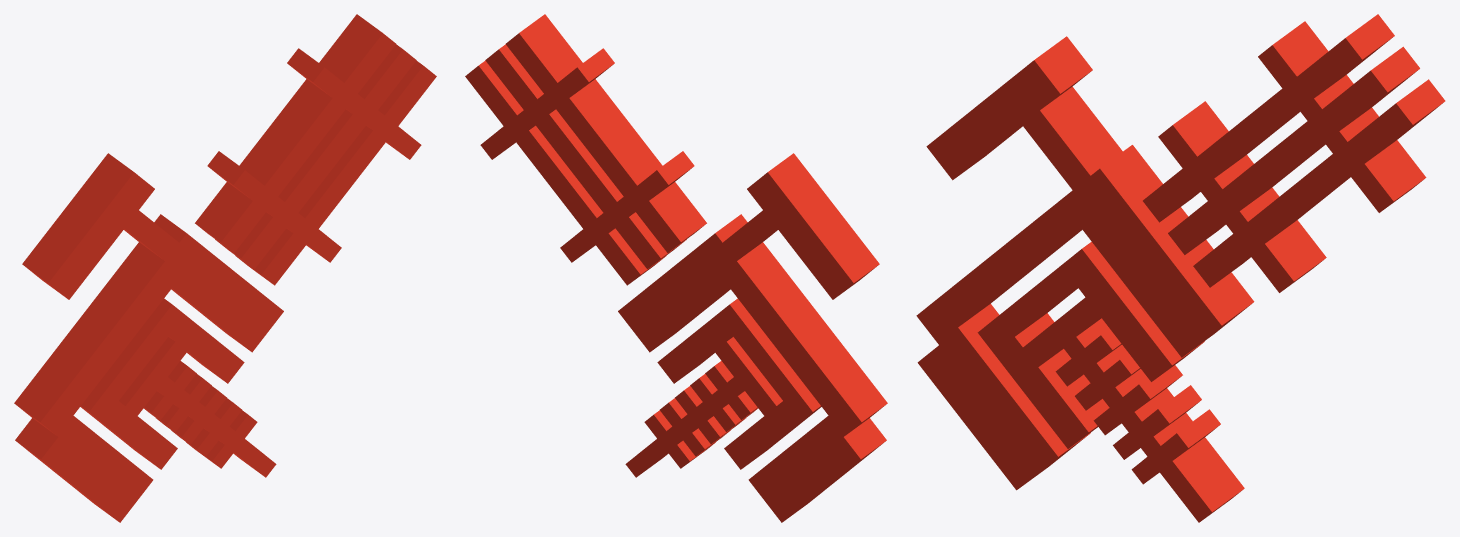
The model's file is Icon_Minigun.fbx.
3 renders of one model, left to right at view 1: azimuth 30°, elevation 25°; view 2: azimuth 150°, elevation 25°; view 3: azimuth 330°, elevation 25°, orthographic. The views are drawn at different scales.
Visible parts, largest first — view 1: Icon_Minigun; view 2: Icon_Minigun; view 3: Icon_Minigun.
Boxes of the visible parts, bbox=[...] form: Icon_Minigun: bbox=[14, 14, 436, 522]; Icon_Minigun: bbox=[465, 14, 887, 522]; Icon_Minigun: bbox=[916, 14, 1445, 522].
Bounding box in the file's own units: 86.51 × 88.7 × 9.87.
